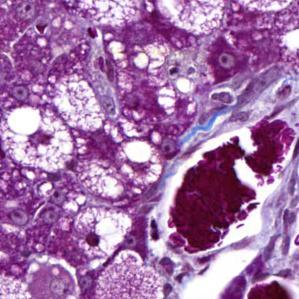ballooning: (4, 103, 76, 178), (66, 203, 137, 275), (51, 76, 108, 135), (116, 139, 167, 190), (156, 2, 228, 37), (66, 3, 156, 30)
